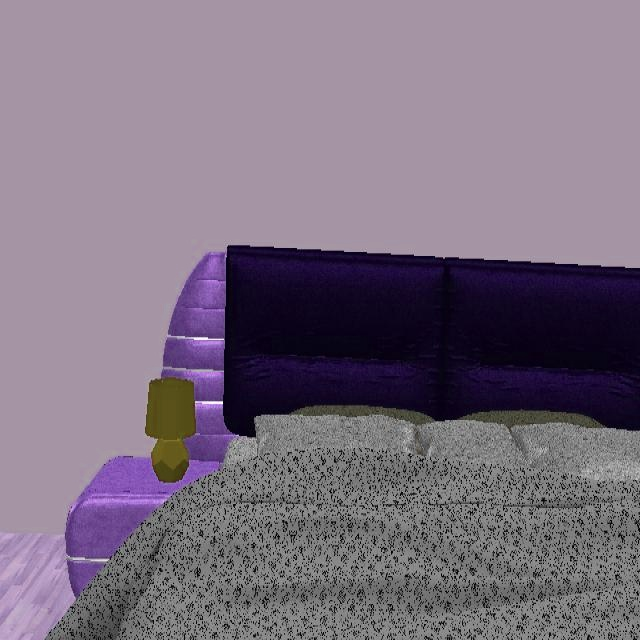bed: (43, 412, 640, 640)
lamp: (144, 377, 197, 484)
nighttable: (64, 421, 229, 597)
pillow: (255, 415, 519, 459), (510, 423, 640, 480)
